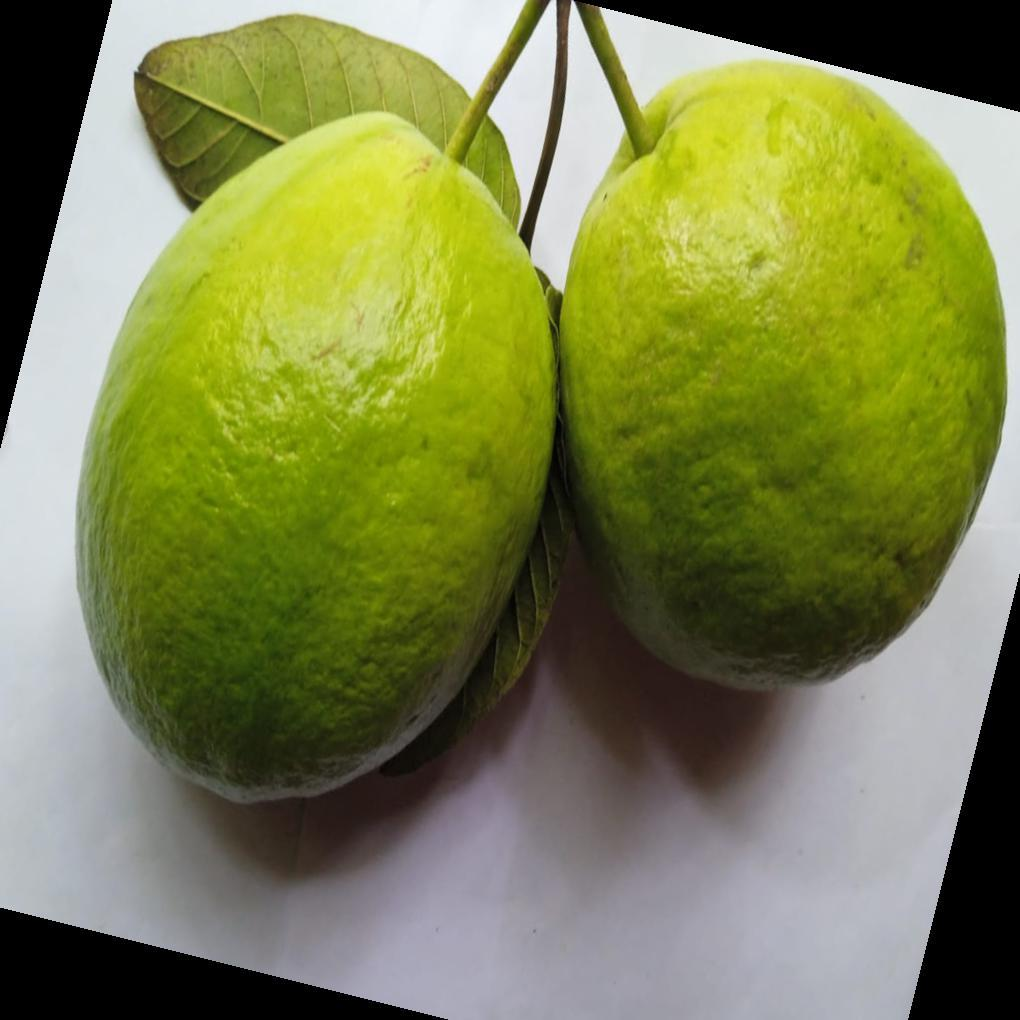FreshGuava: (71, 52, 1009, 808)
